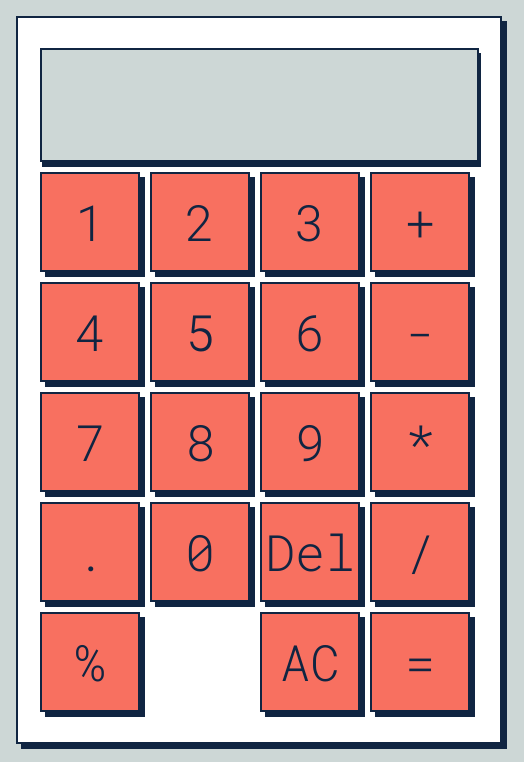
Scenario: When the user clicks a button › -> renders the button content
This screenshot has width=524, height=762.
Double-click the text "7" at (90, 442), box [75,409,105,475]
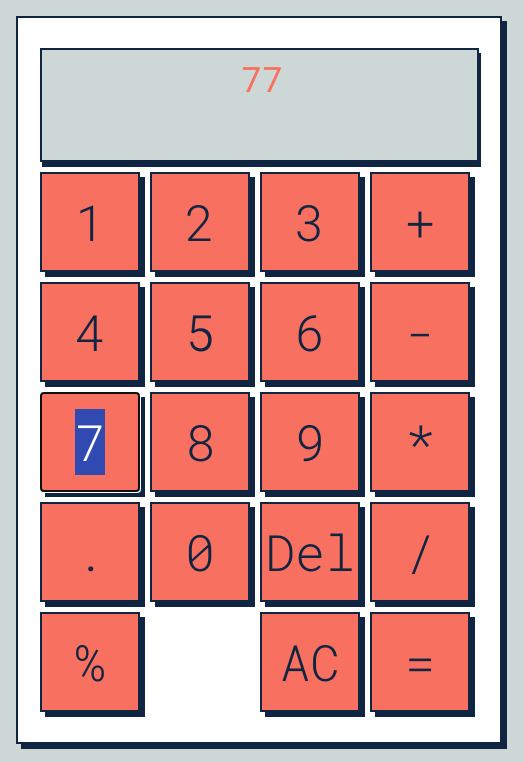
expect the text "77" is shown: met, box [241,55,283,101]
